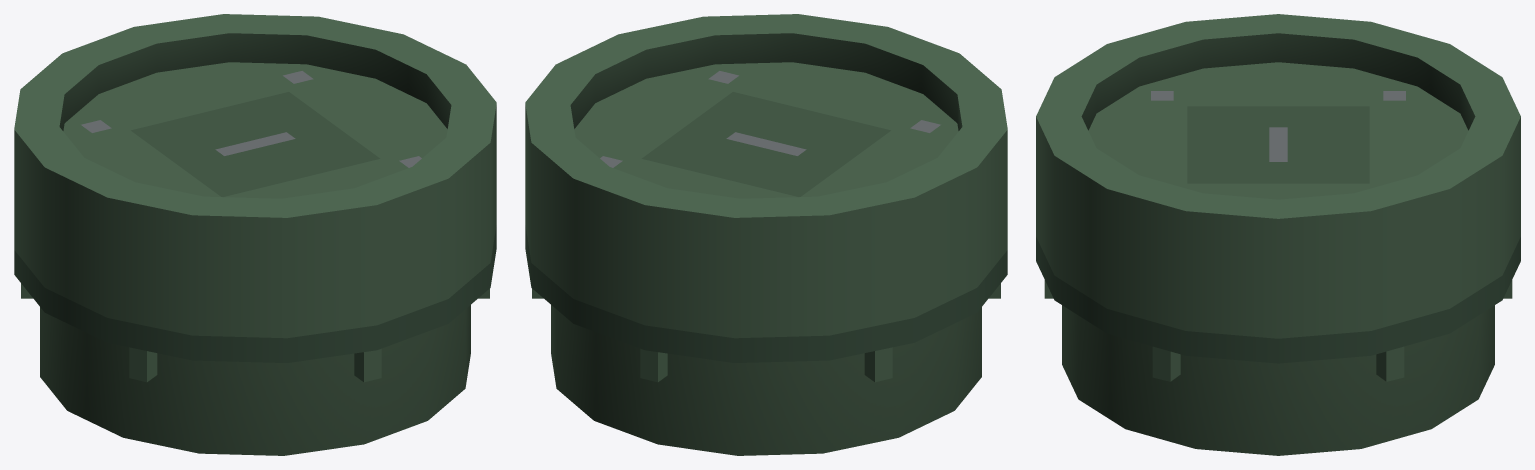
Rendered from pipe.riser.green.glb.
The picture shows the model from 3 angles, left to right: view 1: azimuth 30°, elevation 25°; view 2: azimuth 150°, elevation 25°; view 3: azimuth 270°, elevation 25°; orthographic projection.
Visible parts, largest first — view 1: pipe_riser_green; view 2: pipe_riser_green; view 3: pipe_riser_green.
Part boxes in pixels (x1,y1,x2,y2): pipe_riser_green: (14, 14, 496, 455); pipe_riser_green: (525, 14, 1007, 455); pipe_riser_green: (1036, 14, 1520, 455).
Size of what is drawn, in the model's own units: 2.13 by 1.2 by 2.13.
